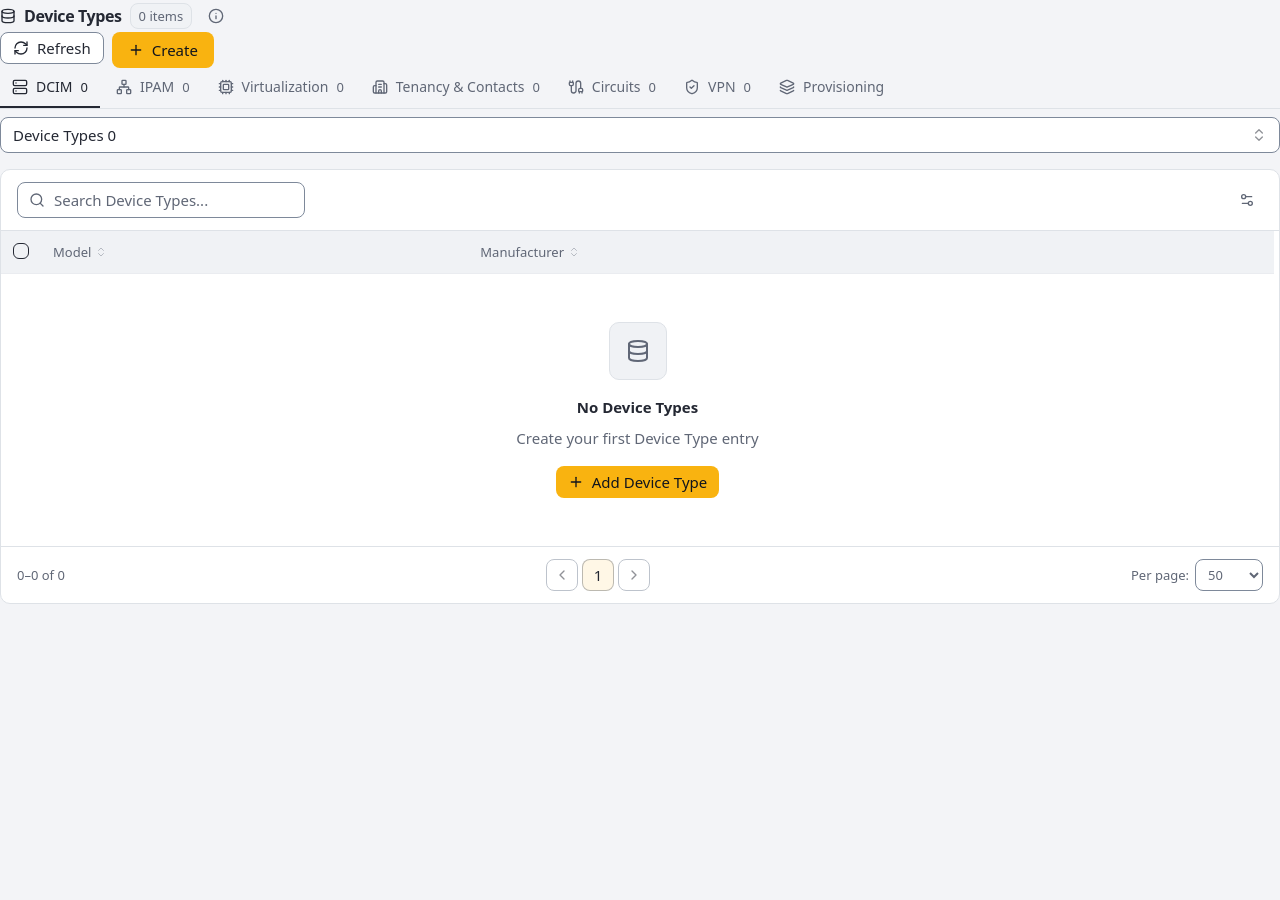
Test: InventoryResources column filters › keeps the nameless-entity identity column fixed after switching tabs
The width and height of the screenshot is (1280, 900).
Click the button named "columns" at (1247, 200), box [1231,184,1263,216]
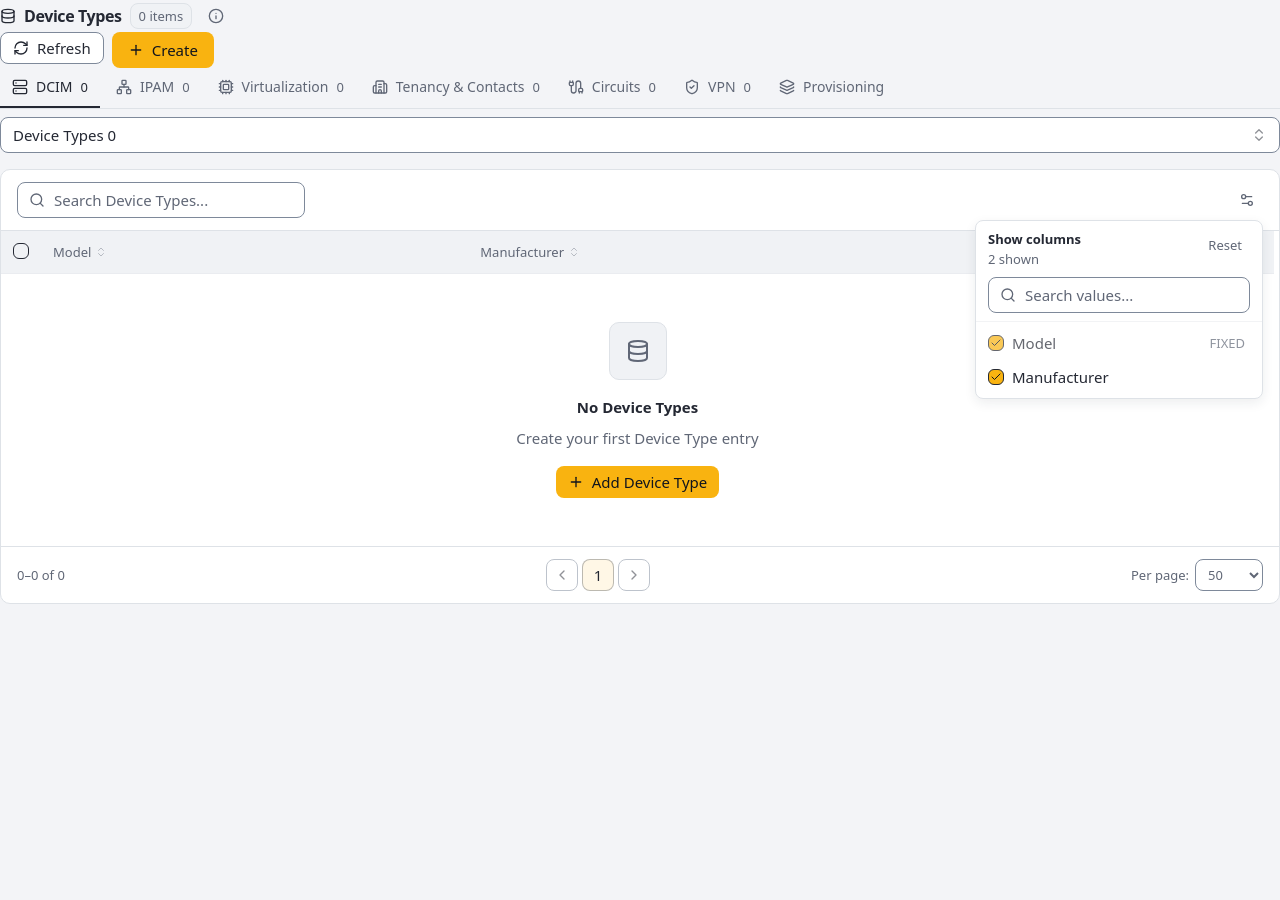
Now the menu item "Model Fixed" is disabled, box [980,326,1253,360]
